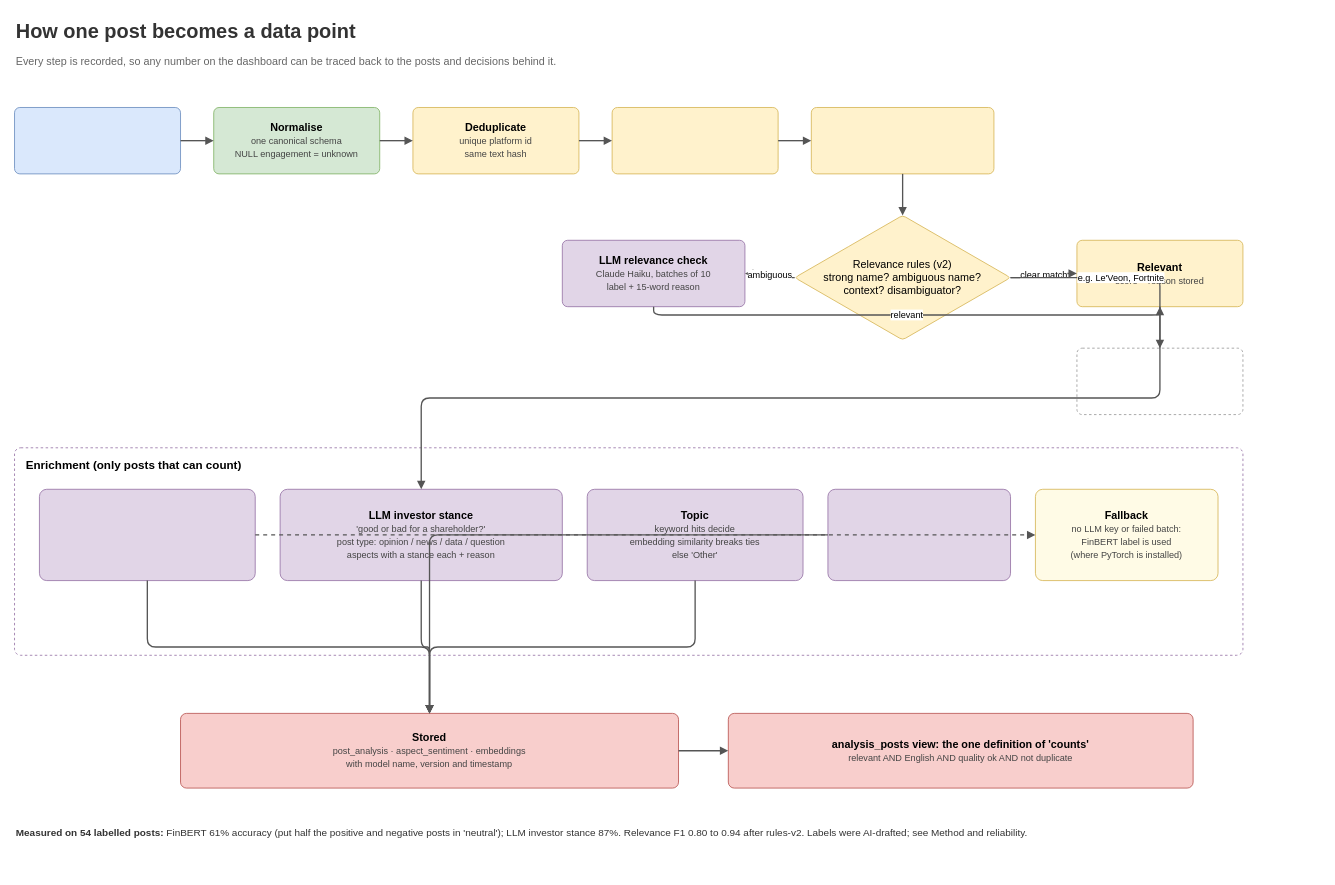
Some shapes in this 1335 by 885 pixel diagram are drawn without their labels. The shapes that lost their labels are listed below. From the top down, each one's centre as x and y in pixels, then its label:
pixel 97 140: Raw API record YouTube / Bluesky / Reddit
pixel 694 140: Language English analysed; others stored
pixel 902 140: Quality spam, promo, repeated templates (not 'bot')
pixel 1159 381: Irrelevant kept, excluded, reason shown
pixel 147 534: FinBERT baseline local finance model label + score kept as finbert_sentiment
pixel 919 534: Embedding bge-small, 384 dims for semantic search
